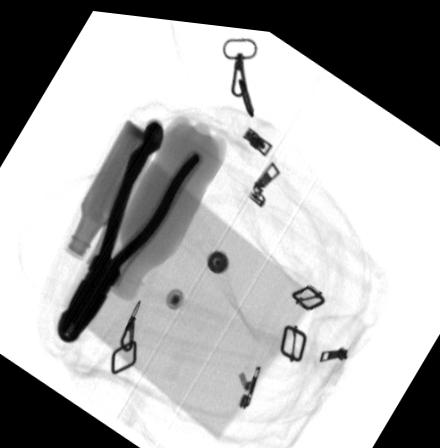Pliers: (55, 117, 203, 345)
Wrench: (99, 114, 166, 240)
